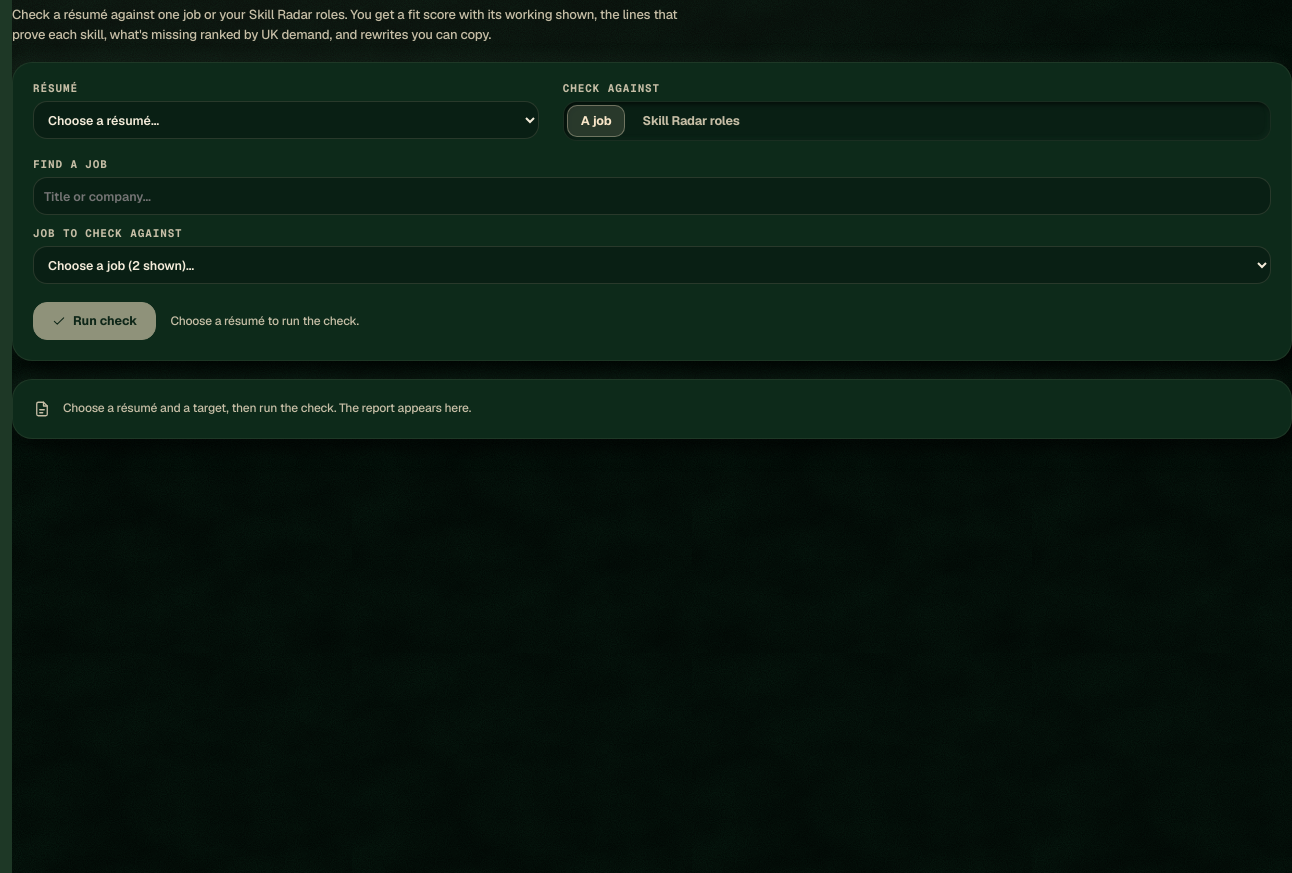
Test: ResumeCheckerPage › marks only the add_only_if_true suggestion with "Add only if true"
Select "Suraj_AIPM.pdf" in the dropdown labelled "Résumé" at (286, 120), box [33,101,539,139]
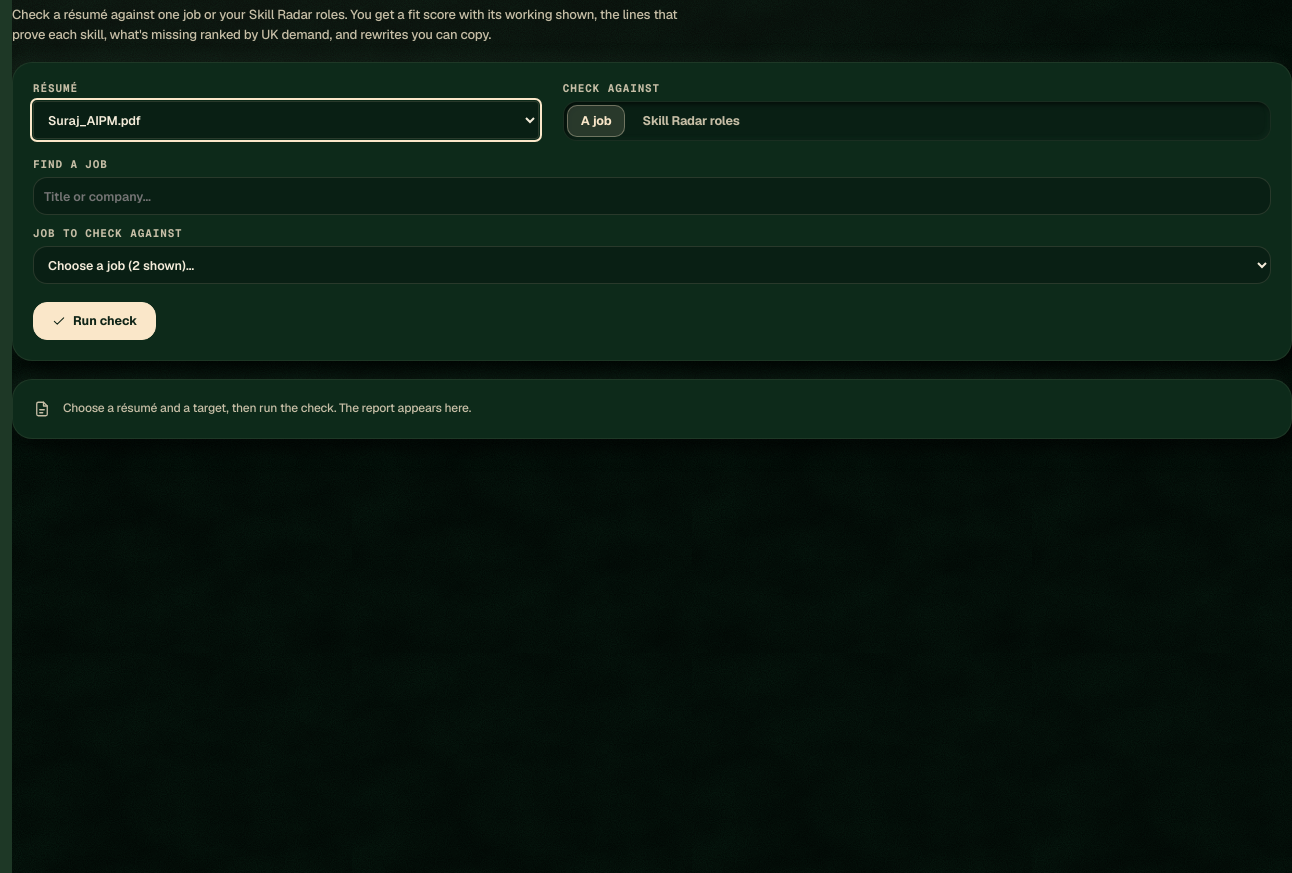
Select "Senior Frontend Engineer · Acme Corp" in the dropdown labelled "Job to check against" at (652, 265), box [33,246,1271,284]
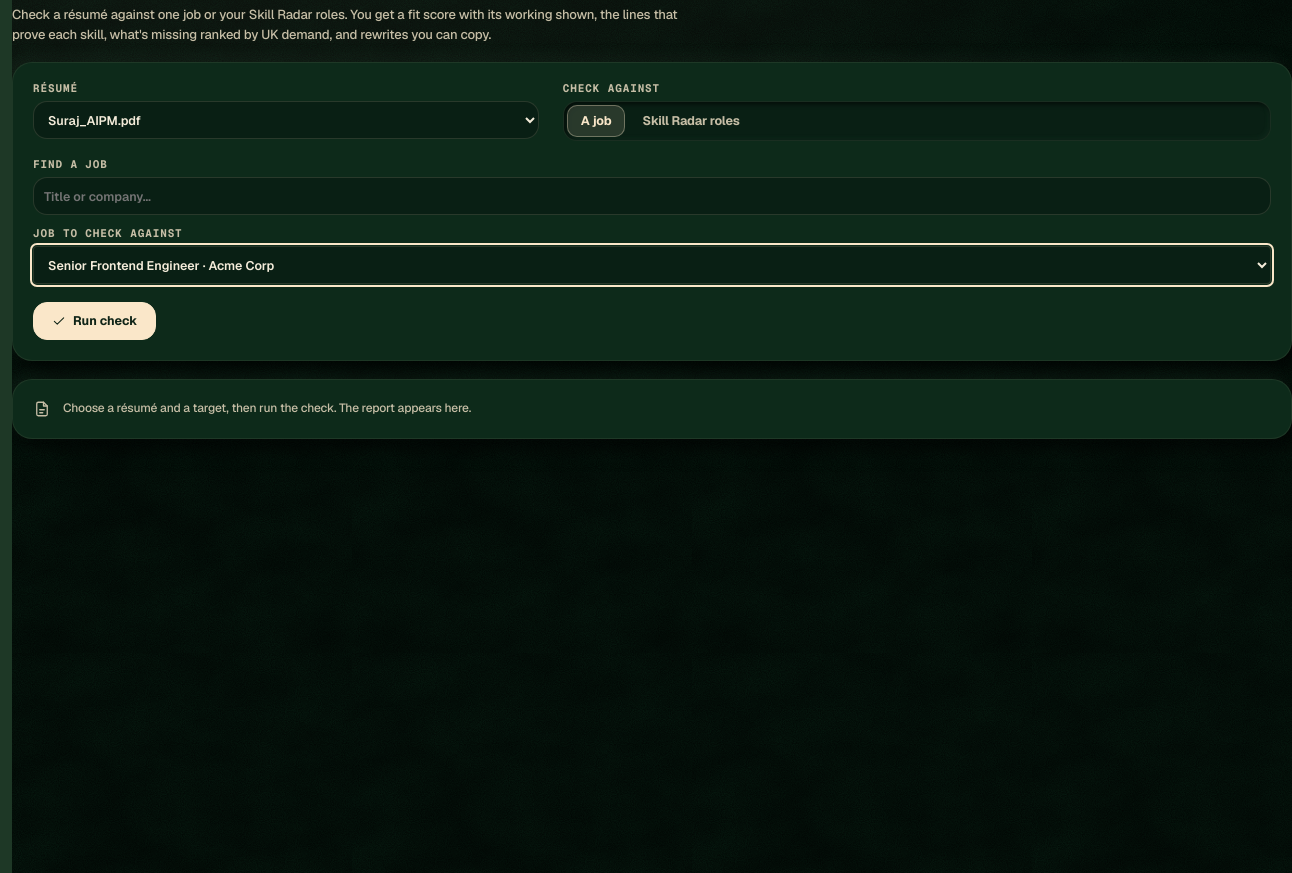
Click the button "Run check".
click(95, 321)  # box [33,302,156,340]
(page scrolled)
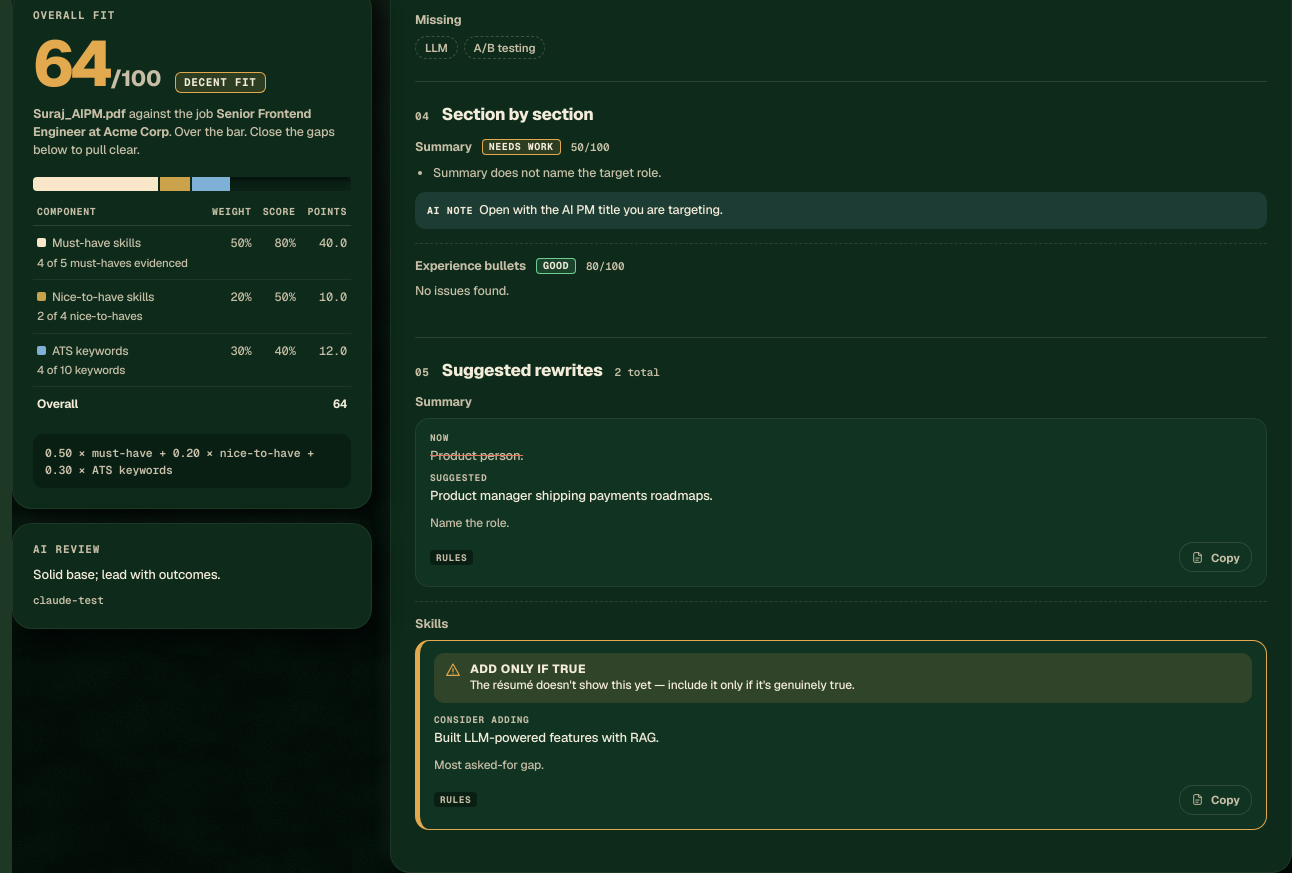
Result: the heading "Overall fit" is shown at [33,8,115,22]
Result: the text "Product person." is shown at [430,446,523,464]
Result: the text "Add only if true" is shown at [470,661,586,677]
